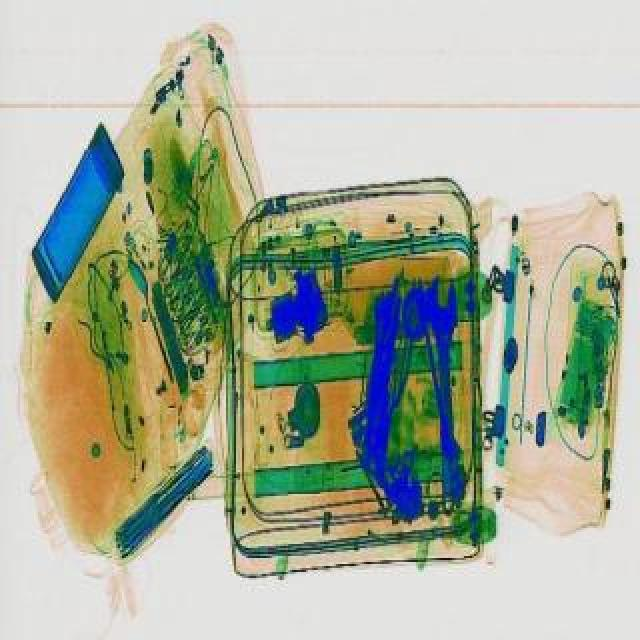scissors: (420, 270, 472, 512)
